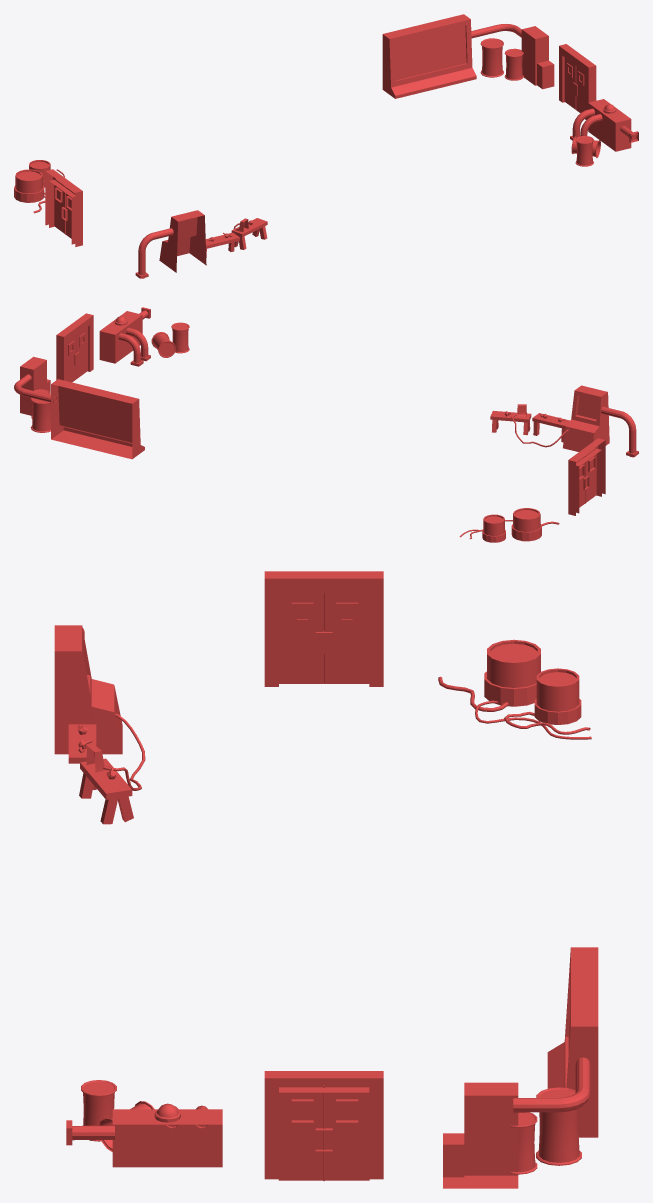
Rendered from FoodStruggle_objetos.fbx.
3 renders of one model, top to bottom at view 1: azimuth 30°, elevation 25°; view 2: azimuth 150°, elevation 25°; view 3: azimuth 270°, elevation 25°, orthographic. The views are drawn at different scales.
Parts seen in each view (by area): view 1: obj_computadora, obj_consola, door, obj_generador, door_02, obj_tanques, obj_barril_01, obj_Escritorio_02, obj_barril_02, obj_barril_04, obj_Escritorio_01; view 2: obj_computadora, obj_consola, door, obj_generador, door_02, obj_tanques, obj_Escritorio_02, obj_barril_01, obj_barril_04, obj_Escritorio_01, obj_barril_03; view 3: obj_computadora, door, door_02, obj_generador, obj_tanques, obj_consola, obj_barril_01, obj_Escritorio_02, obj_barril_04, obj_barril_02, obj_Escritorio_01.
Boxes of the visible parts, <box> form: obj_computadora: <box>382,14,554,98</box>; obj_consola: <box>135,210,206,278</box>; door: <box>45,169,82,246</box>; obj_generador: <box>570,99,638,151</box>; door_02: <box>559,44,596,119</box>; obj_tanques: <box>14,160,64,213</box>; obj_barril_01: <box>480,38,503,77</box>; obj_Escritorio_02: <box>231,218,267,249</box>; obj_barril_02: <box>504,48,523,80</box>; obj_barril_04: <box>575,136,593,166</box>; obj_Escritorio_01: <box>205,232,239,257</box>; obj_computadora: <box>14,356,144,459</box>; obj_consola: <box>563,385,638,457</box>; door: <box>568,438,605,515</box>; obj_generador: <box>99,307,150,366</box>; door_02: <box>56,313,93,382</box>; obj_tanques: <box>459,508,559,542</box>; obj_Escritorio_02: <box>490,404,531,435</box>; obj_barril_01: <box>30,398,50,432</box>; obj_barril_04: <box>171,322,189,353</box>; obj_Escritorio_01: <box>532,413,569,442</box>; obj_barril_03: <box>151,332,175,357</box>; obj_computadora: <box>443,947,598,1188</box>; door: <box>264,571,383,686</box>; door_02: <box>264,1071,383,1181</box>; obj_generador: <box>66,1103,222,1167</box>; obj_tanques: <box>438,639,591,739</box>; obj_consola: <box>54,625,122,754</box>; obj_barril_01: <box>536,1087,581,1165</box>; obj_Escritorio_02: <box>79,744,133,824</box>; obj_barril_04: <box>81,1080,116,1141</box>; obj_barril_02: <box>510,1112,537,1174</box>; obj_Escritorio_01: <box>68,724,96,789</box>.
Size of the model in its own units: 43.6 by 4.54 by 19.67.
